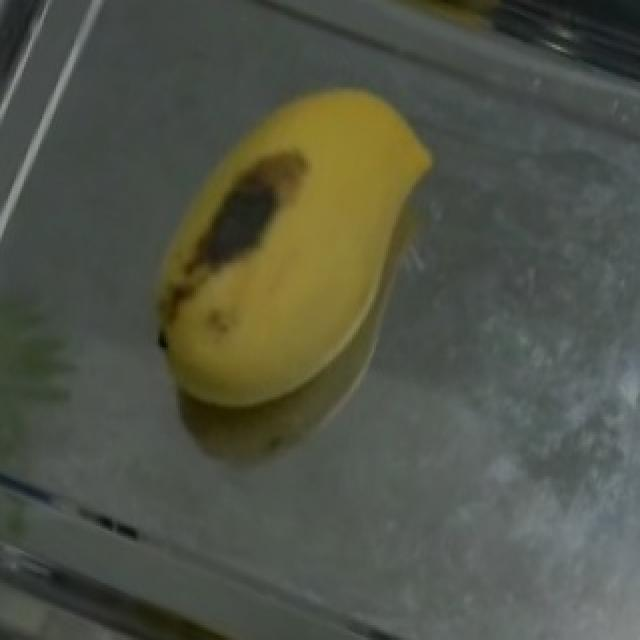fruit: (184, 40, 474, 409)
